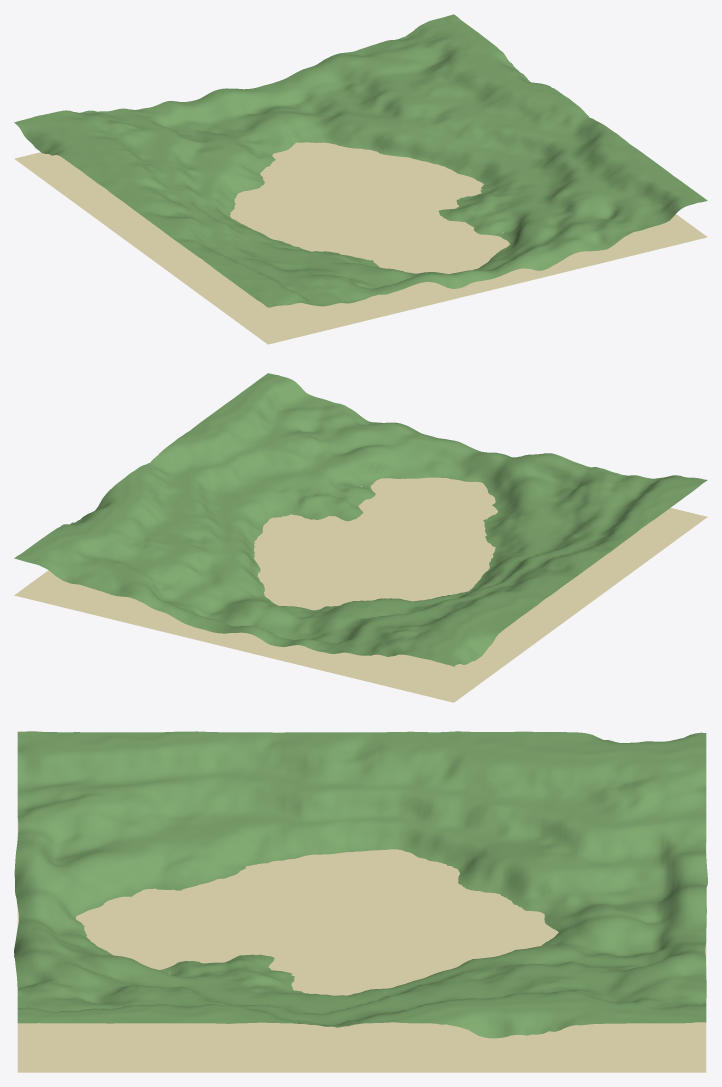
The model's file is landscape.glb.
The picture shows the model from 3 angles, top to bottom: view 1: azimuth 30°, elevation 25°; view 2: azimuth 150°, elevation 25°; view 3: azimuth 270°, elevation 25°; orthographic projection. The views are drawn at different scales.
Visible parts, largest first — view 1: Landscape, Landscape_plane; view 2: Landscape, Landscape_plane; view 3: Landscape, Landscape_plane.
Boxes of the visible parts, bbox=[...] form: Landscape: bbox=[14, 14, 707, 307]; Landscape_plane: bbox=[14, 142, 707, 344]; Landscape: bbox=[14, 373, 707, 666]; Landscape_plane: bbox=[14, 477, 707, 702]; Landscape: bbox=[14, 731, 707, 1038]; Landscape_plane: bbox=[17, 818, 706, 1072].
Bounding box in the file's own units: 2 × 0.1918 × 2.02.
